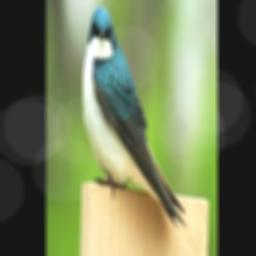Swallow: (81, 4, 187, 230)
